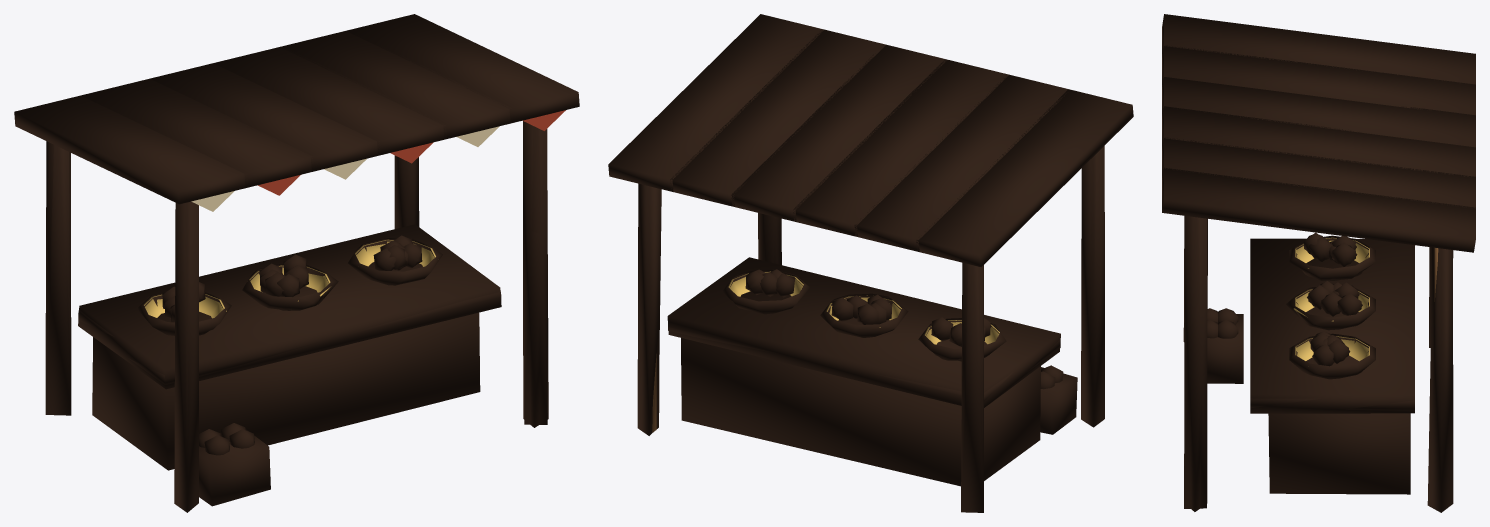
Rendered from stall.glb.
3 views of the same model, side by side, from view 1: azimuth 30°, elevation 25°; view 2: azimuth 150°, elevation 25°; view 3: azimuth 270°, elevation 25° (orthographic). The views are drawn at different scales.
Visible parts, largest first — view 1: stall_LOD1_outline, stall_outline, stall; view 2: stall_outline, stall_LOD1_outline, stall; view 3: stall_outline, stall_LOD1_outline, stall.
Part boxes in pixels (<box>): stall_LOD1_outline: <box>45,121,548,512</box>; stall_outline: <box>14,14,579,466</box>; stall: <box>144,110,565,318</box>; stall_outline: <box>608,14,1133,457</box>; stall_LOD1_outline: <box>637,146,1104,512</box>; stall: <box>652,271,999,432</box>; stall_outline: <box>1162,14,1475,508</box>; stall_LOD1_outline: <box>1183,215,1453,512</box>; stall: <box>1293,237,1438,361</box>.
Size of what is drawn, in the model's own units: 3.22 by 2.6 by 2.3.
